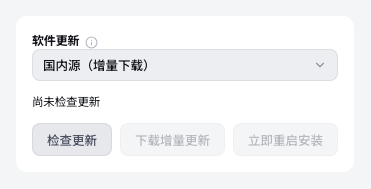
update settings › releases busy controls when IPC rejects and does not allow installation
The width and height of the screenshot is (371, 189).
Click the button "检查更新": (72, 140) [32,123,112,156]
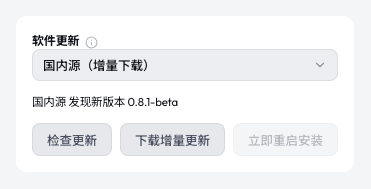
Check: the button "下载增量更新" is enabled
Click the button "下载增量更新": (172, 140) [120,123,225,156]
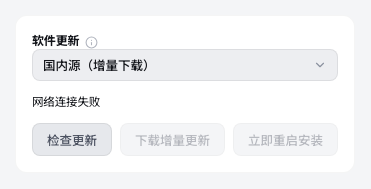
Check: the button "检查更新" is enabled, box [32,123,112,156]
Check: the message reads "网络连接失败", box [32,94,100,109]
Check: the button "下载增量更新" is disabled, box [120,123,225,156]
